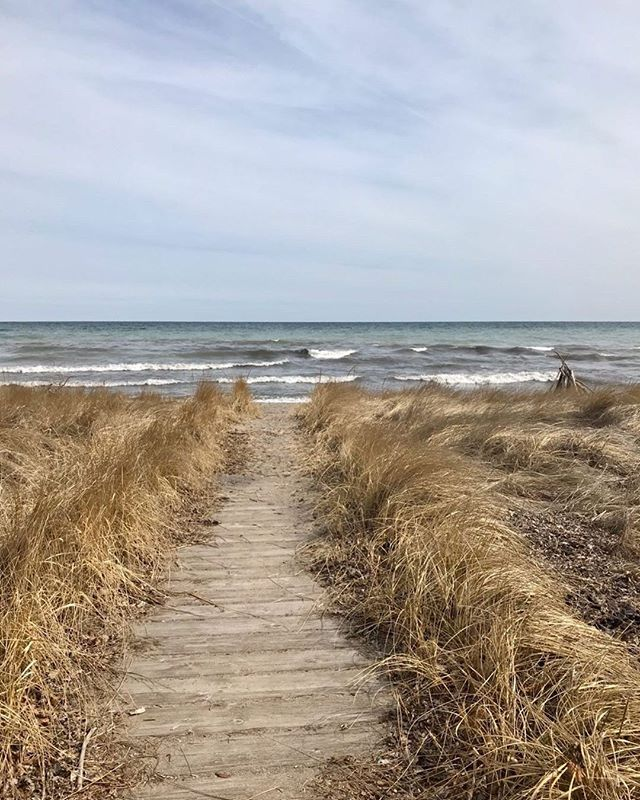grass: (349, 382, 640, 724), (1, 398, 209, 652)
sea: (11, 318, 640, 396)
sky: (3, 2, 640, 315)
